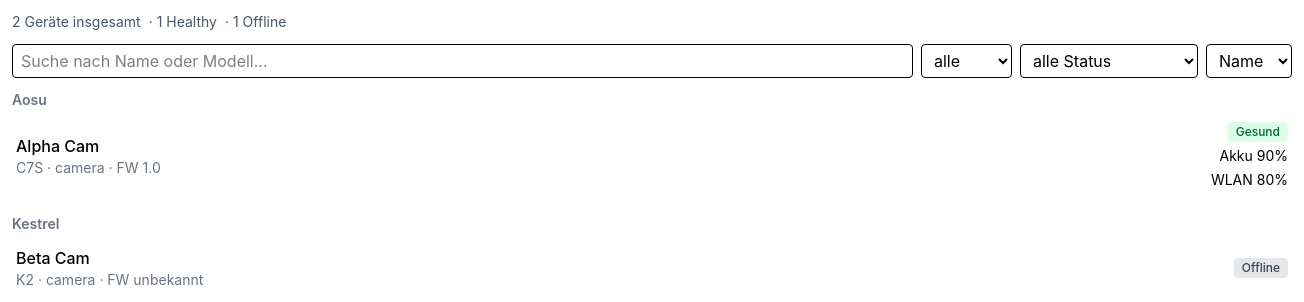
Test: DeviceInventory › shows an explicit message when no device matches the filters
Type "does-not-exist" into the field named "Geräte durchsuchen" at x=462, y=61, box [12,44,913,78]
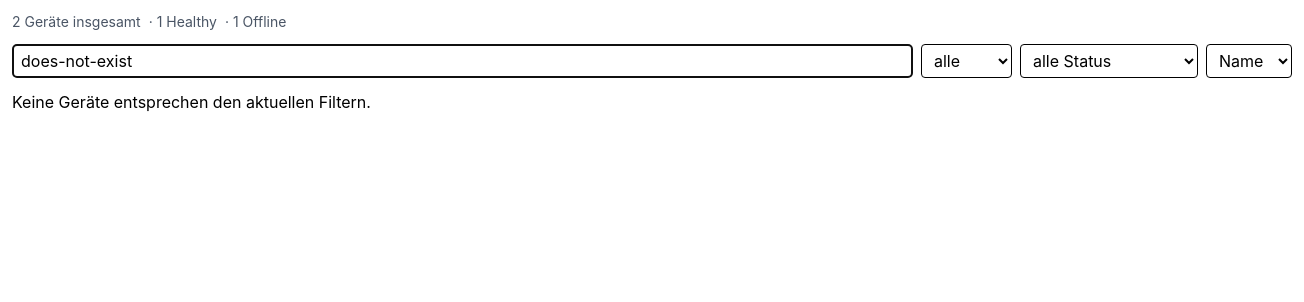
Expected: the message shows "Keine Geräte", [12,92,371,112]
